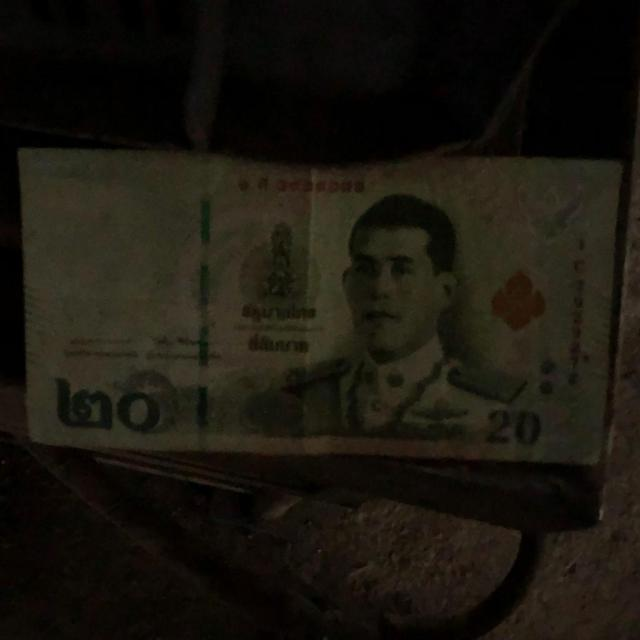THAI20: (16, 149, 626, 468)
